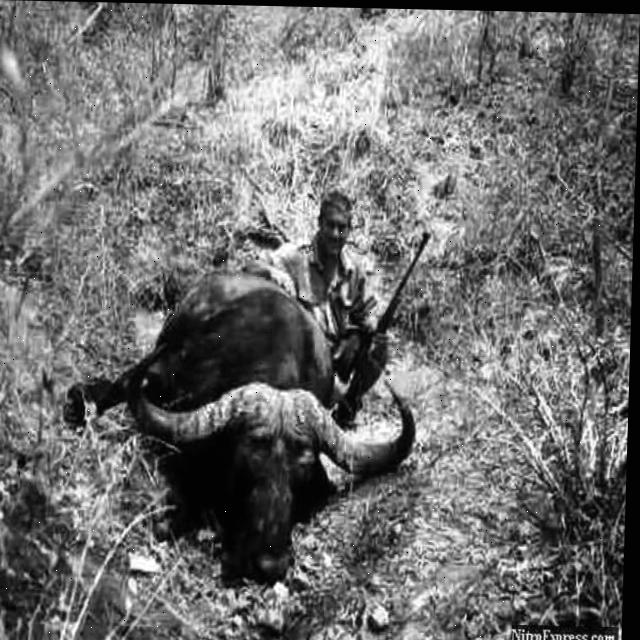Buffalo: (63, 266, 423, 587)
